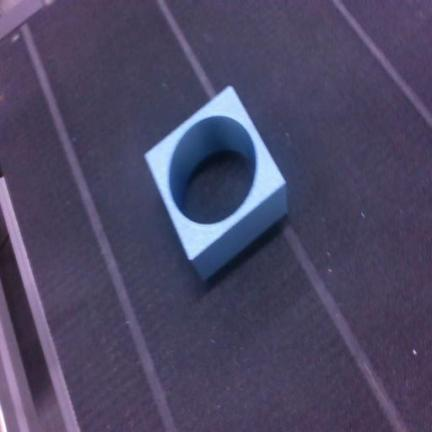square: (170, 118, 255, 225)
